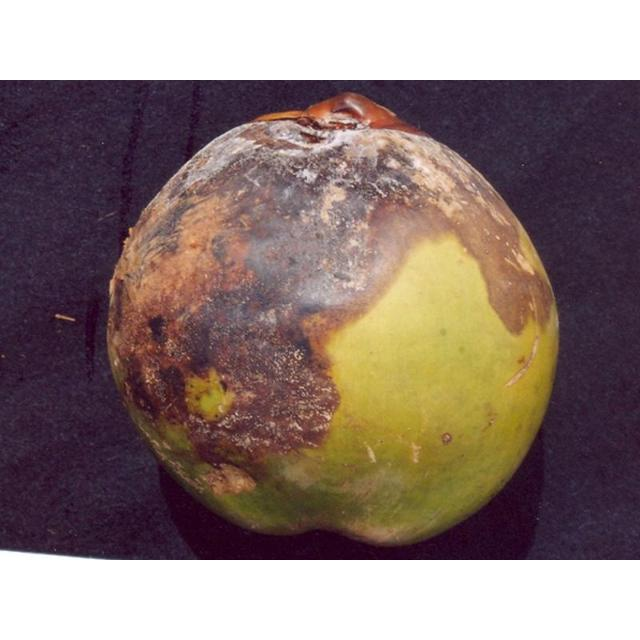damaged: (104, 94, 561, 550)
